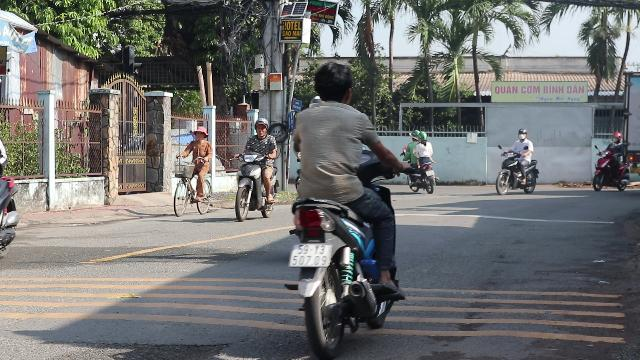helmet: (253, 118, 269, 137)
licenseplate: (288, 245, 332, 267)
motorcyclist: (286, 62, 408, 356), (231, 116, 281, 222)
nohelmet: (310, 62, 354, 106)
